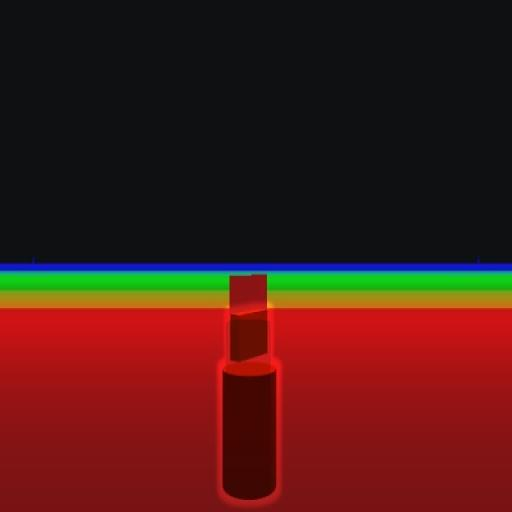buoy: (219, 310, 282, 500)
